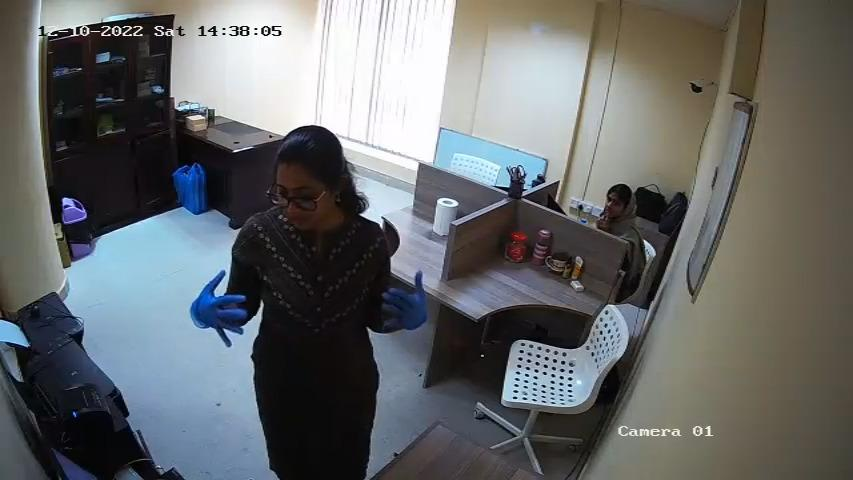gloves: (191, 268, 253, 351), (375, 269, 435, 335)
